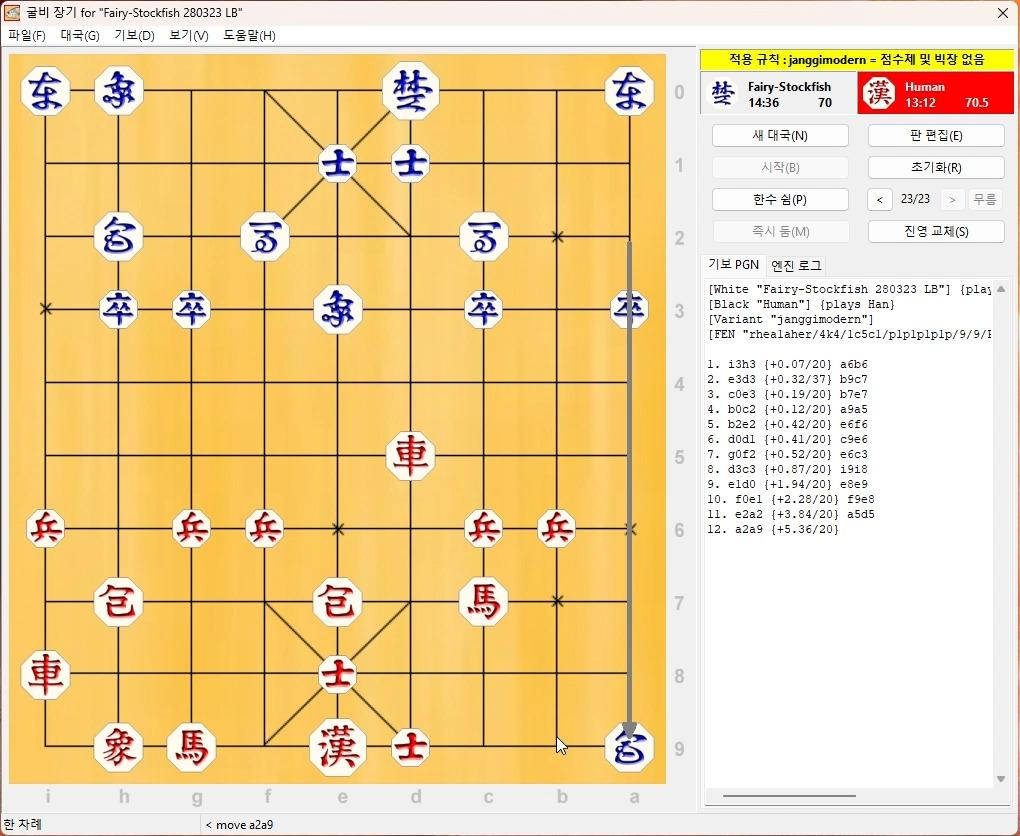cha_green: (603, 68, 653, 115), (21, 70, 69, 114)
cha_red: (386, 433, 435, 479), (21, 652, 70, 698)
jol_green: (466, 293, 505, 329), (171, 292, 210, 328), (98, 293, 137, 328), (610, 291, 649, 325)
jol_red: (464, 511, 505, 549), (24, 512, 65, 547), (537, 512, 578, 547), (243, 512, 283, 547), (173, 512, 213, 547)
ma_green: (461, 211, 508, 260), (240, 212, 290, 258)
ma_red: (166, 724, 218, 770), (458, 579, 507, 624)
po_green: (94, 217, 144, 262), (603, 725, 654, 769)
po_red: (314, 577, 364, 622), (94, 580, 143, 624)
sa_green: (319, 147, 359, 180), (392, 147, 432, 180)
sa_red: (319, 655, 360, 693), (390, 727, 429, 764)
sang_green: (314, 285, 364, 333), (94, 67, 144, 113)
sang_red: (91, 725, 144, 770)
wang_green: (382, 64, 439, 118)
wang_red: (309, 723, 369, 774)
